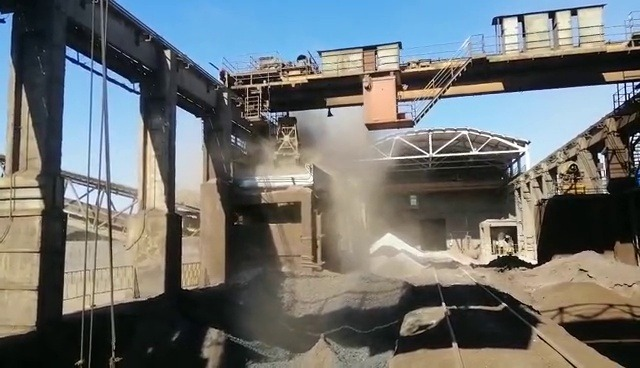dust: (231, 116, 474, 313)
